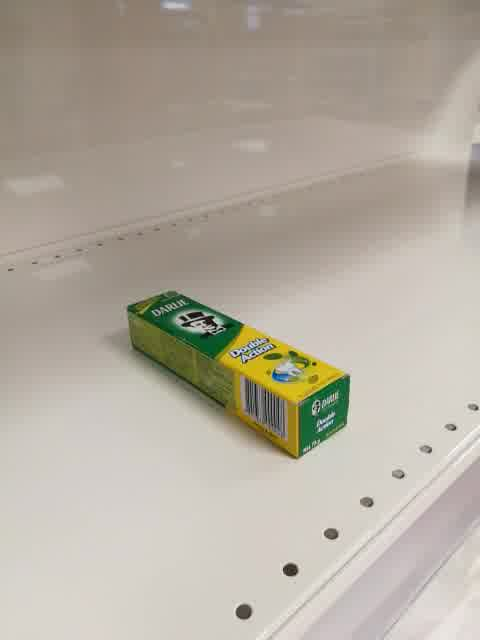toothpaste: (124, 289, 351, 462)
